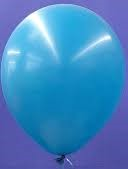Balloon: (1, 4, 123, 154)
